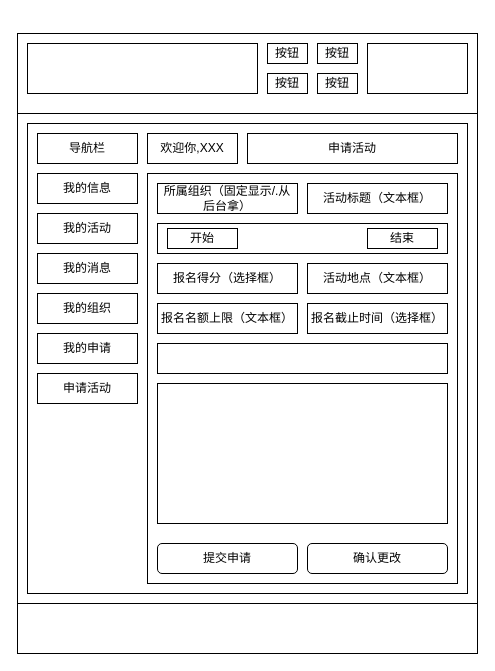
This 495x671 diagram has some shape labels left out. Each missing label, with the box of its shape:
底部导航栏&联系发邮件: (16, 602, 478, 654)
当前登录学生信息显示（跳转主页）: (366, 42, 468, 94)
活动时间（选择框）: (156, 222, 448, 254)
活动类型（班级团党活动；班级党员活动）: (156, 342, 448, 374)
活动详细内容（文本框，富文本）: (156, 382, 448, 524)
网站标题（文字+图片）: (26, 42, 258, 94)
